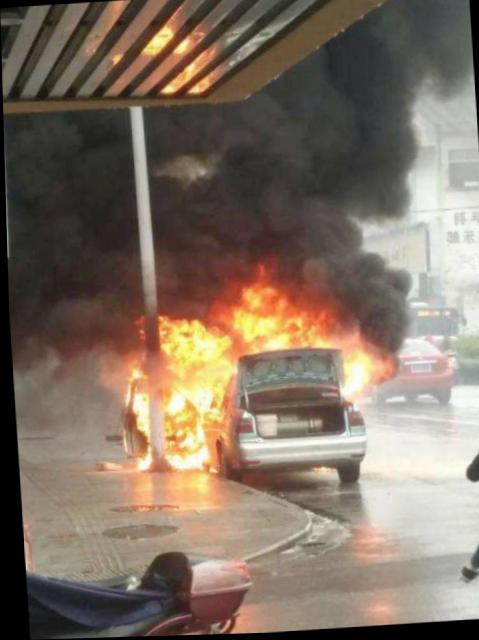fire: (114, 260, 389, 477)
